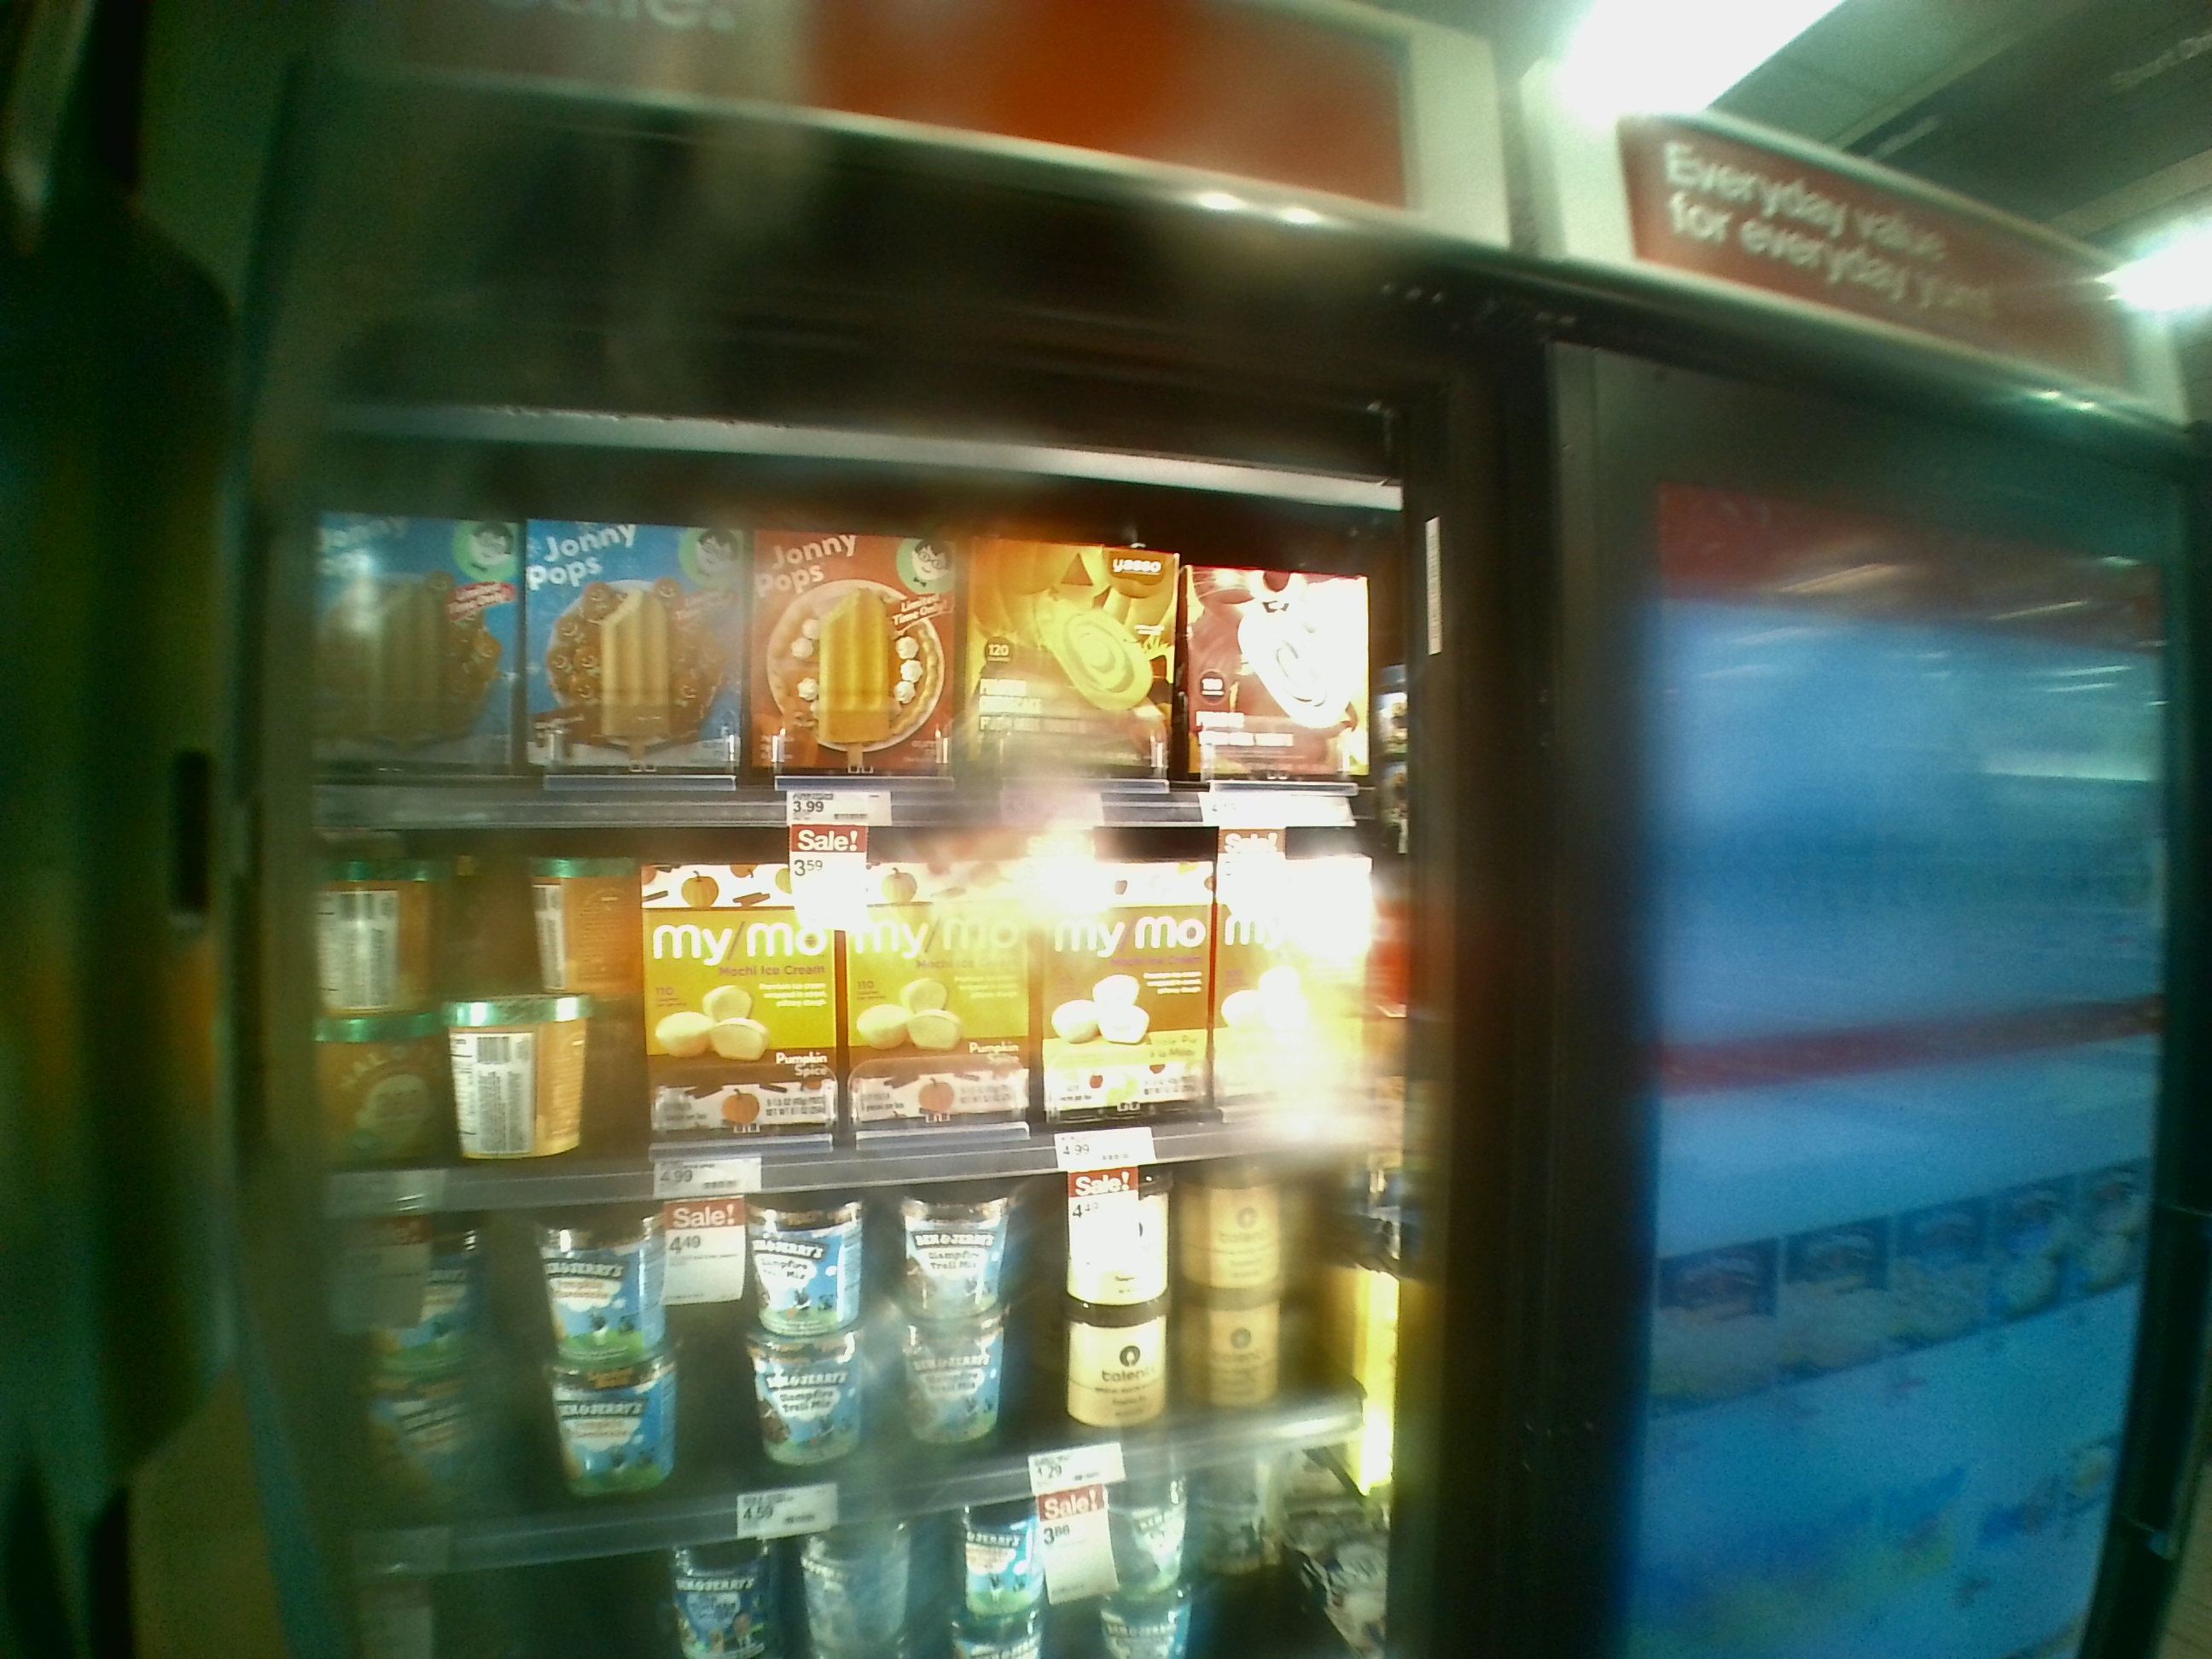shelf: (280, 448, 1416, 835), (284, 821, 1404, 1171), (307, 1202, 1385, 1528)
